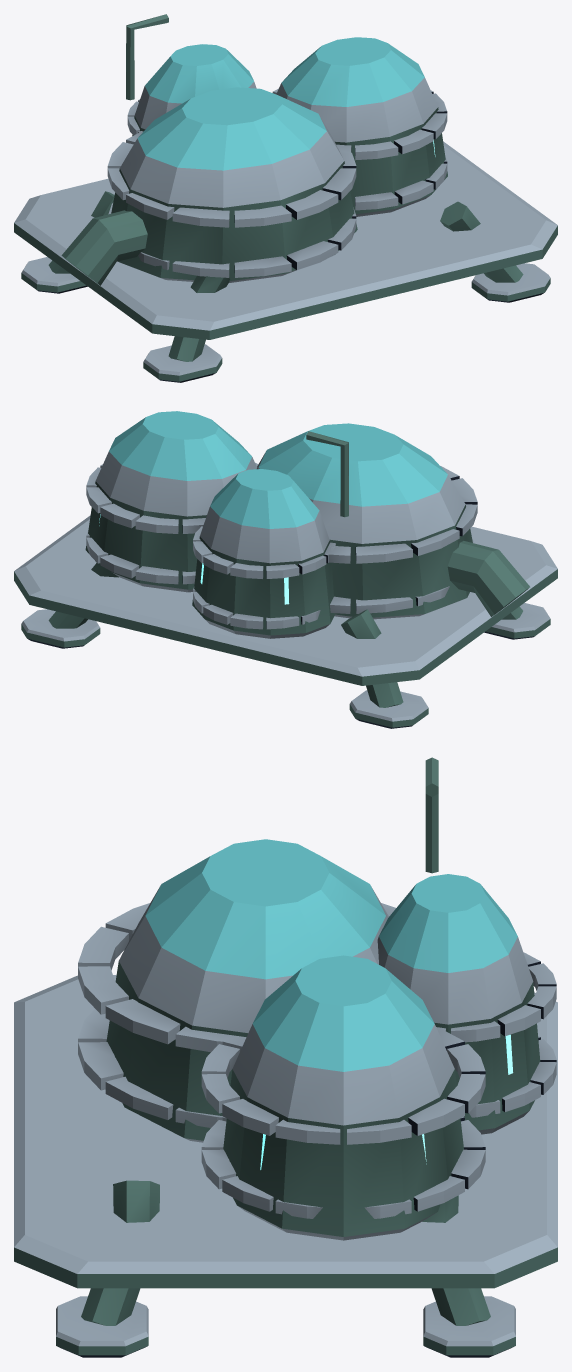
Rendered from abyss-habitat.glb.
3 views of the same model, one above another, from view 1: azimuth 30°, elevation 25°; view 2: azimuth 150°, elevation 25°; view 3: azimuth 270°, elevation 25° (orthographic). The views are drawn at different scales.
Visible parts, largest first — view 1: abyss-habitat; view 2: abyss-habitat; view 3: abyss-habitat.
Part boxes in pixels (<box>): abyss-habitat: <box>14,14,557,382</box>; abyss-habitat: <box>14,411,557,728</box>; abyss-habitat: <box>14,757,557,1357</box>.
Bounding box in the file's own units: 9.29 × 5.22 × 6.7.
